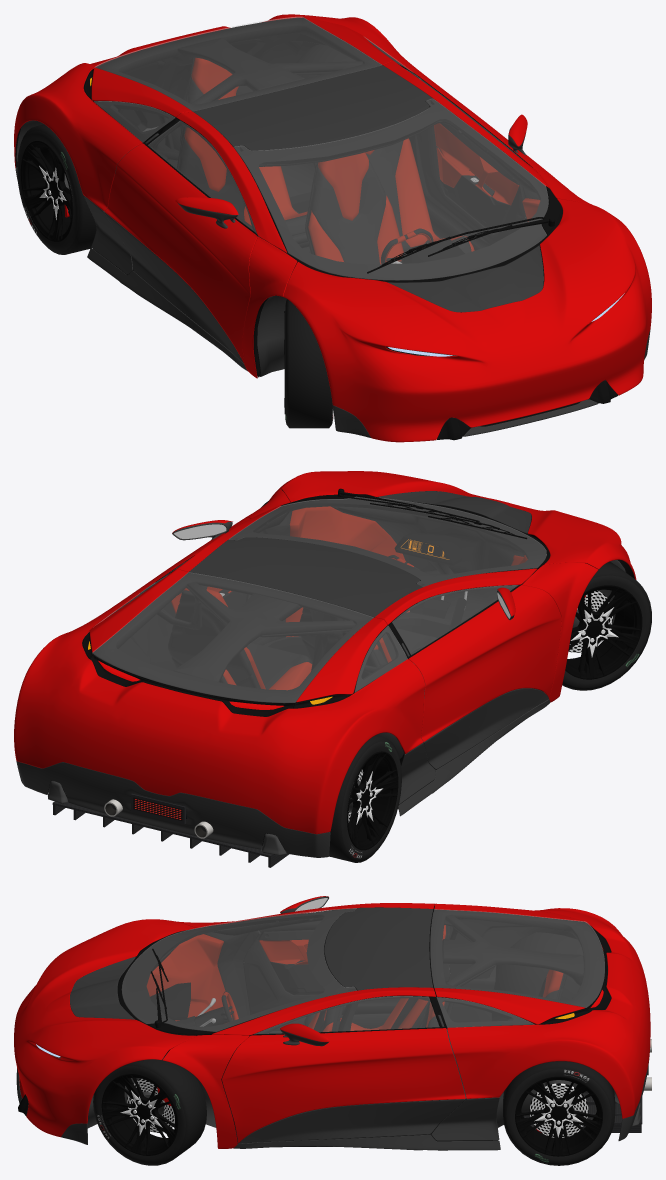
File: concept-car.glb
3 renders of one model, top to bottom at view 1: azimuth 30°, elevation 25°; view 2: azimuth 150°, elevation 25°; view 3: azimuth 270°, elevation 25°, orthographic. The views are drawn at different scales.
Parts seen in each view (by area): view 1: BodyHood, BodyWindshield, BodyRearwindow, BodyDoorRColor1, BodyRearPanelsColor1, BodyRoofPanel, BodyWindshieldGasket, InteriorSeatsColor1, InteriorSeatsColor2, BodyPillars, InteriorPillar, InteriorRearHatch (+21 smaller); view 2: BodyRearPanelsColor1, BodyRearwindow, BodyWindshield, BodyDoorRColor1, BodyPanelsColor2, BodyRoofPanel, BodyHood, InteriorRearHatch, BodyPillars, InteriorPillar, InteriorDashMid, BodyWindshieldGasket (+23 smaller); view 3: BodyRearPanelsColor1, BodyWindshield, BodyDoorLColor1, BodyHood, BodyRearwindow, BodyRoofPanel, BodyPillars, BodyWindshieldGasket, BodyDoorLColor2, BodyPanelsColor2, WheelFrontL, InteriorRearHatch (+26 smaller).
Boxes of the visible parts, box(x1,y1,x2,y2) form: BodyHood: box(283, 198, 651, 442); BodyWindshield: box(234, 98, 548, 280); BodyRearwindow: box(94, 17, 381, 111); BodyDoorRColor1: box(104, 143, 257, 362); BodyRearPanelsColor1: box(14, 14, 428, 210); BodyRoofPanel: box(193, 65, 431, 150); BodyWindshieldGasket: box(234, 99, 562, 282); InteriorSeatsColor1: box(184, 57, 474, 264); InteriorSeatsColor2: box(180, 78, 471, 264); BodyPillars: box(176, 61, 597, 378); InteriorPillar: box(158, 37, 434, 169); InteriorRearHatch: box(93, 17, 381, 117); BodyRearPanelsColor1: box(14, 569, 425, 834); BodyRearwindow: box(93, 572, 373, 702); BodyWindshield: box(229, 497, 546, 586); BodyDoorRColor1: box(408, 585, 561, 741); BodyPanelsColor2: box(16, 699, 550, 857); BodyRoofPanel: box(189, 537, 422, 617); BodyHood: box(278, 471, 636, 579); InteriorRearHatch: box(93, 573, 385, 707); BodyPillars: box(175, 489, 597, 702); InteriorPillar: box(173, 573, 416, 682); InteriorDashMid: box(331, 502, 527, 622); BodyWindshieldGasket: box(229, 497, 550, 587); BodyRearPanelsColor1: box(434, 903, 650, 1118); BodyWindshield: box(122, 908, 356, 1031); BodyDoorLColor1: box(222, 1028, 465, 1143); BodyHood: box(14, 919, 195, 1137); BodyRearwindow: box(430, 909, 604, 1007); BodyRoofPanel: box(324, 907, 433, 990); BodyPillars: box(162, 903, 435, 1148); BodyWindshieldGasket: box(117, 909, 356, 1035); BodyDoorLColor2: box(239, 1099, 465, 1143); BodyPanelsColor2: box(16, 1052, 649, 1150); WheelFrontL: box(93, 1057, 206, 1165); InteriorRearHatch: box(429, 909, 604, 1024).
Size of the model in its own units: 2.54 by 1.15 by 4.37.
28 materials, 6 textured.
